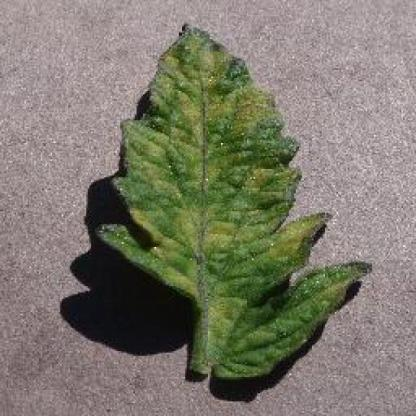Tomato_Leaf_Mold: (97, 27, 372, 378)
